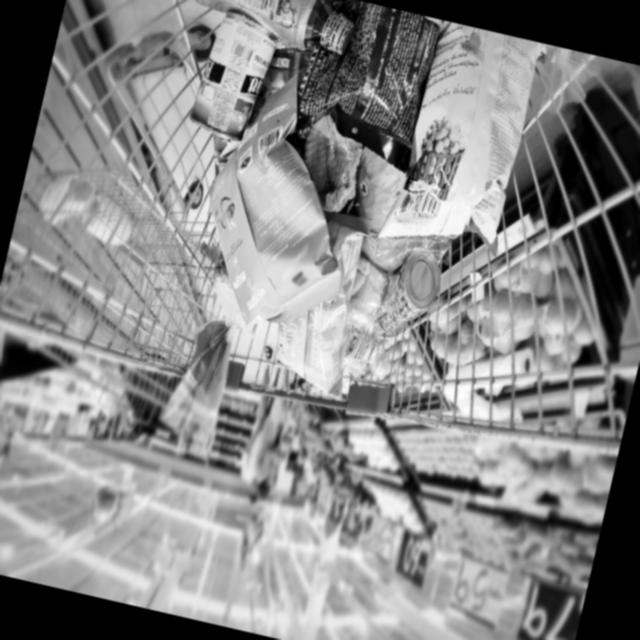banh mi: (172, 239, 271, 416)
